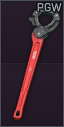Pipe grip wrench: (0, 0, 64, 127)
